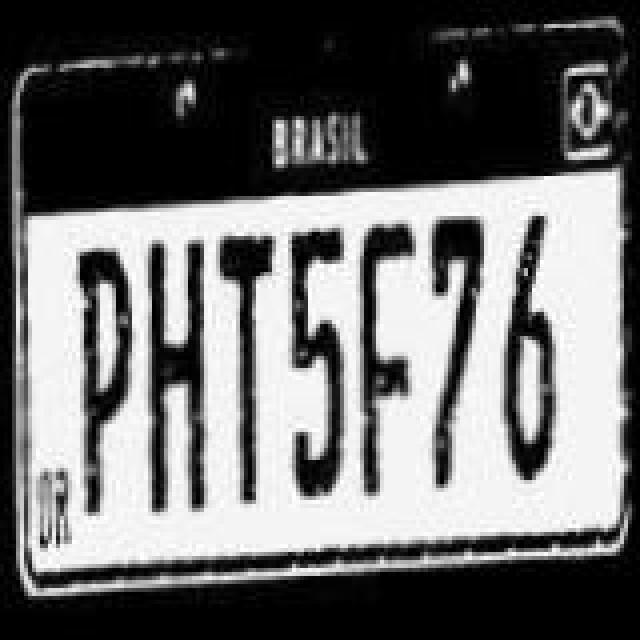5: (276, 214, 348, 514)
6: (494, 186, 570, 482)
7: (420, 198, 500, 490)
F: (348, 206, 420, 518)
H: (134, 230, 214, 546)
P: (66, 246, 138, 558)
T: (204, 228, 284, 524)
